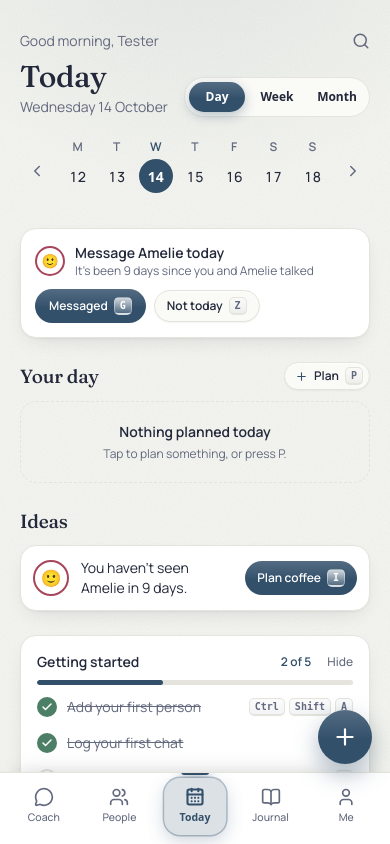
skills over time › shows on a profile and in Me once there are analysed chats
This screenshot has width=390, height=844.
Click the button "People" at (119, 807), box [82, 781, 157, 832]
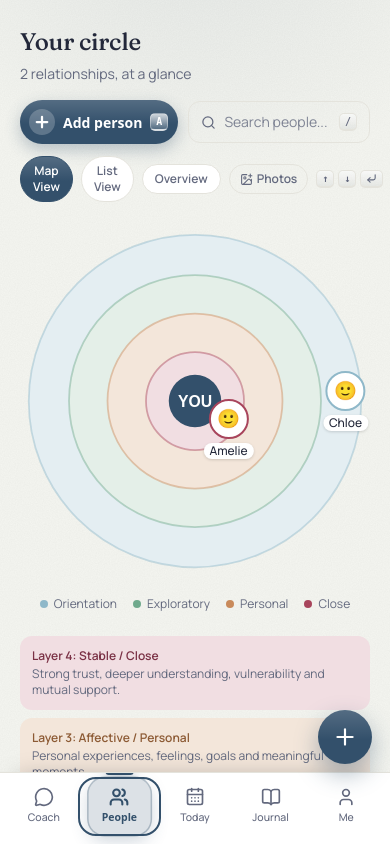
Click the button "🙂 Amelie" at (228, 429), box [203, 399, 254, 459]
(page scrolled)
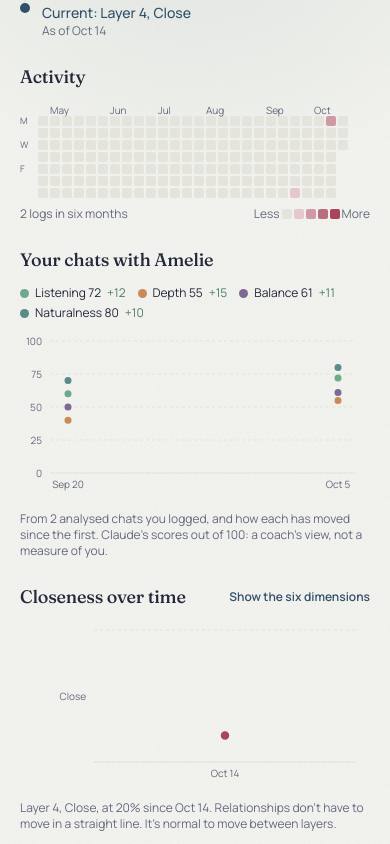
Now the text "Your chats with Amelie" is shown, box [20, 248, 213, 271]
Now the element named "Skills from analysed chats with Amelie" shows "Listening 72 +12", box [20, 285, 370, 559]
Now the element named "Skills from analysed chats with Amelie" shows "Depth 55 +15", box [20, 285, 370, 559]
Press Backspace
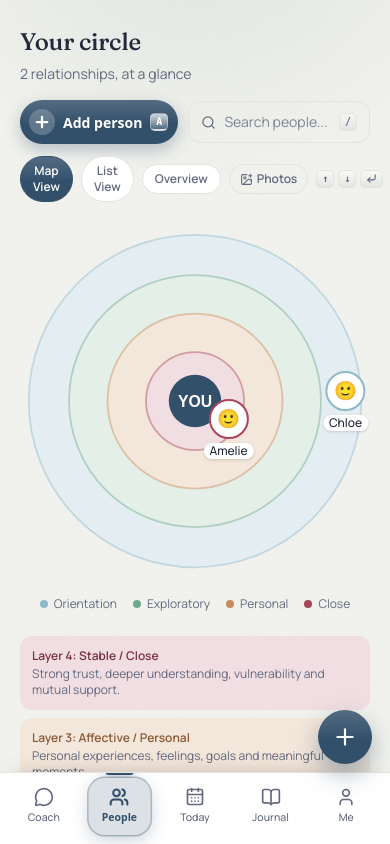
Click the button "🙂 Chloe" at (346, 401), box [323, 371, 368, 431]
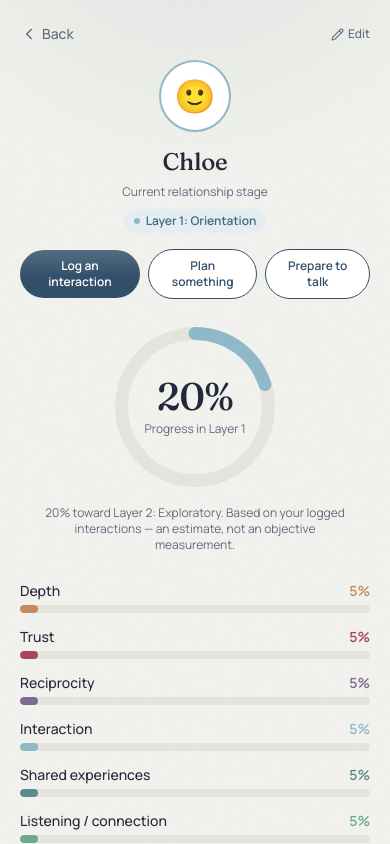
Now the text "Current relationship stage" is shown, box [122, 184, 268, 200]
Press Backspace
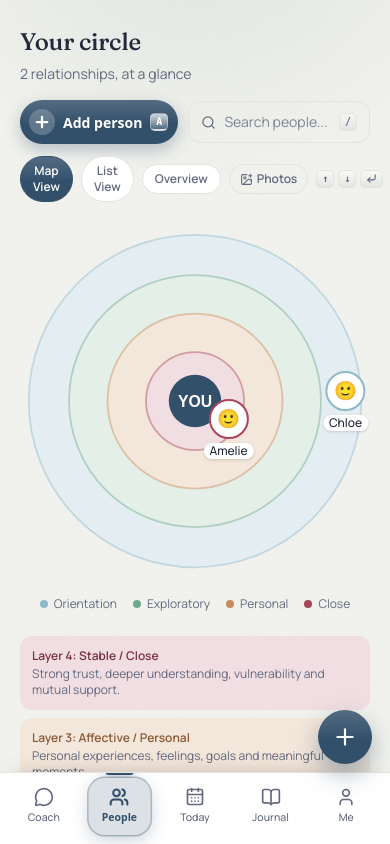
Click the button "Me" at (346, 807), box [308, 781, 384, 832]
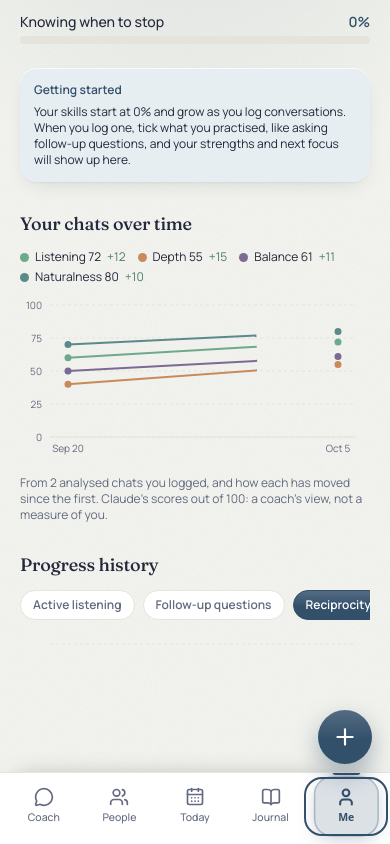
Now the text "Your chats over time" is shown, box [20, 212, 192, 235]
Now the element named "Skills from analysed chats" shows "Balance 61 +11", box [20, 249, 370, 523]
